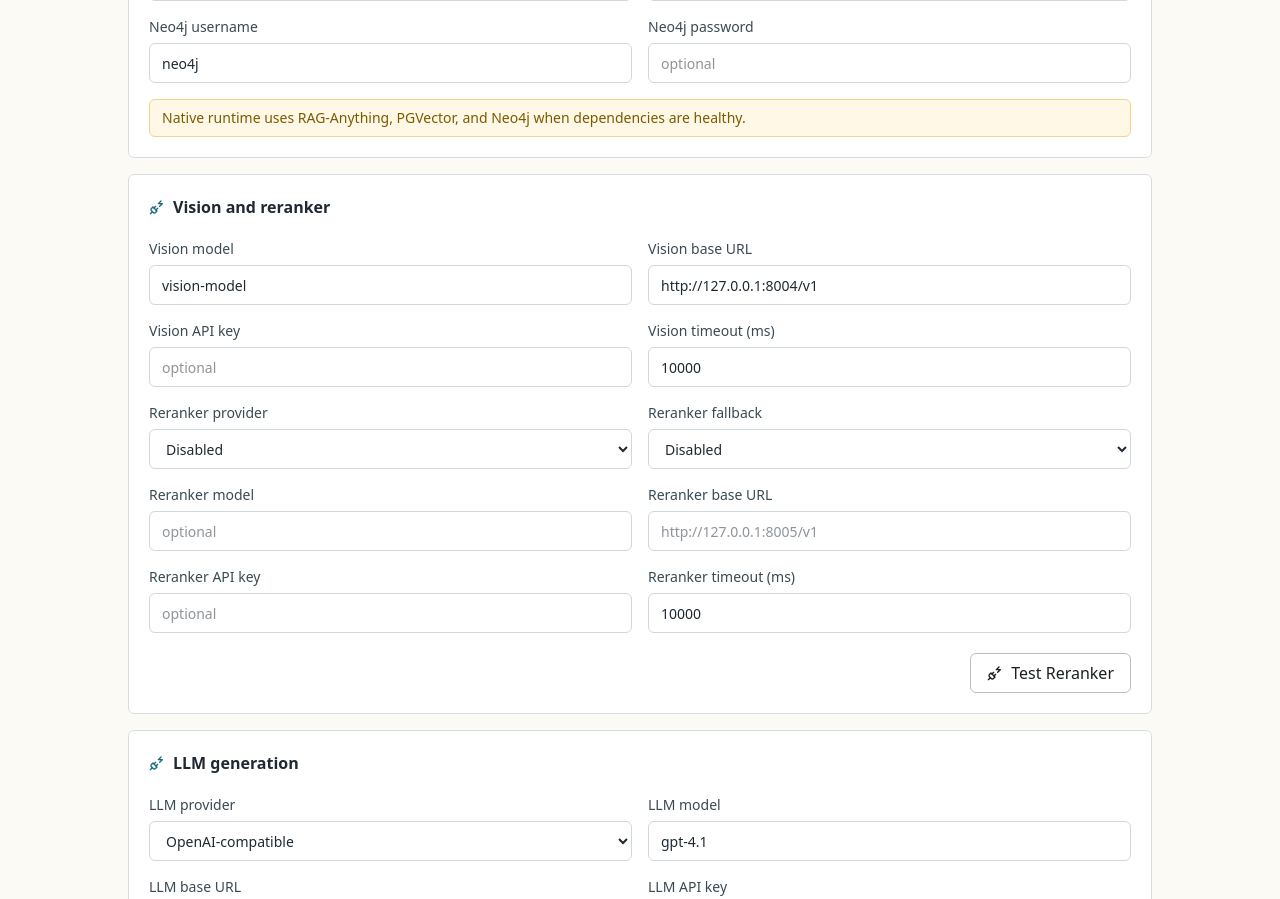
Test: SettingsPage provider sync › tests the configured reranker
This screenshot has width=1280, height=899.
(page scrolled)
Check: the heading "Vision and reranker" is shown, box [173,195,330,219]
Check: the field showing "gpt-4.1" is shown, box [648,821,1131,861]
Select "Generic HTTP" in the dropdown labelled "Reranker provider" at (390, 449), box [149,429,632,469]
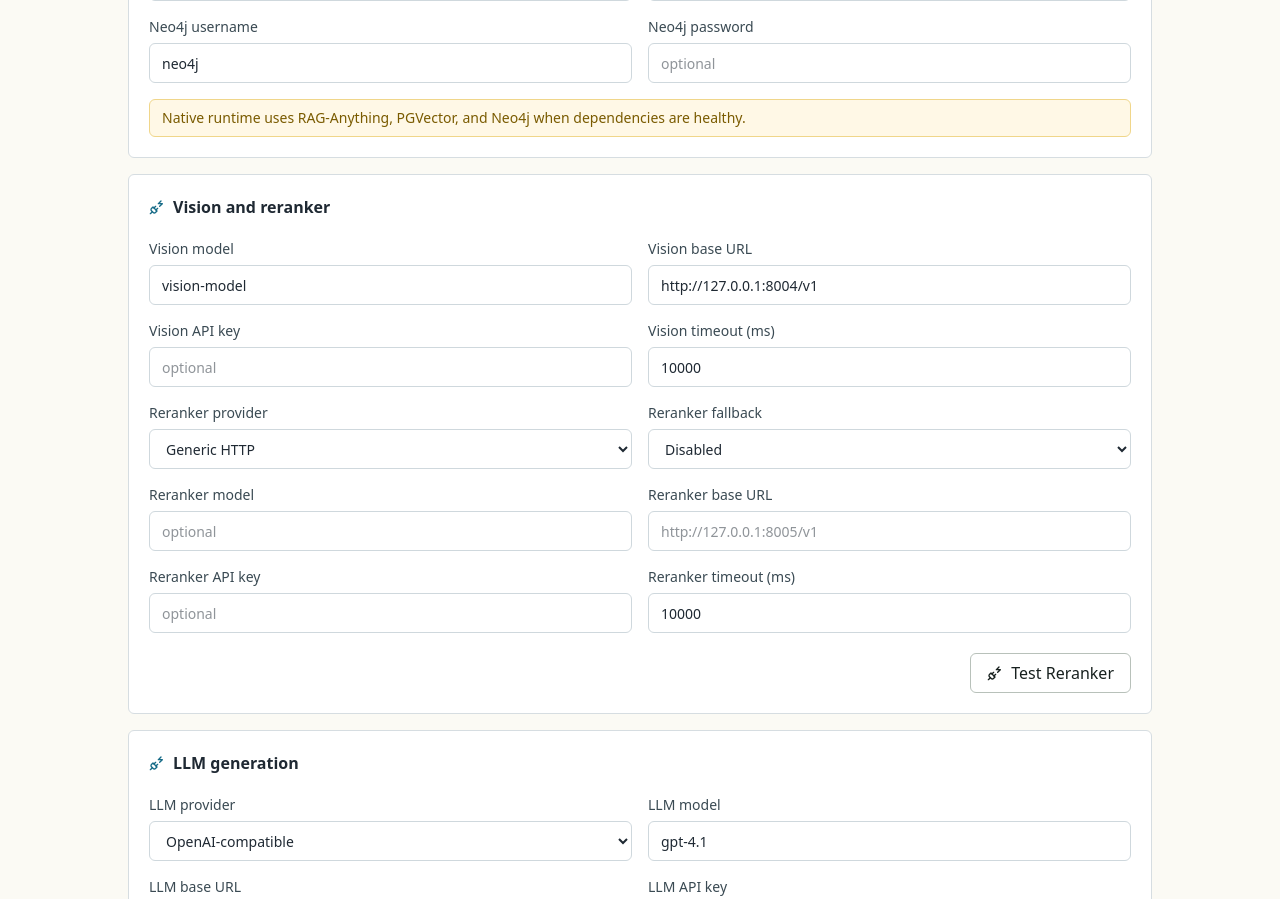
Type "Qwen/Qwen3-Reranker-8B" into the field labelled "Reranker model" at (390, 531), box [149,511,632,551]
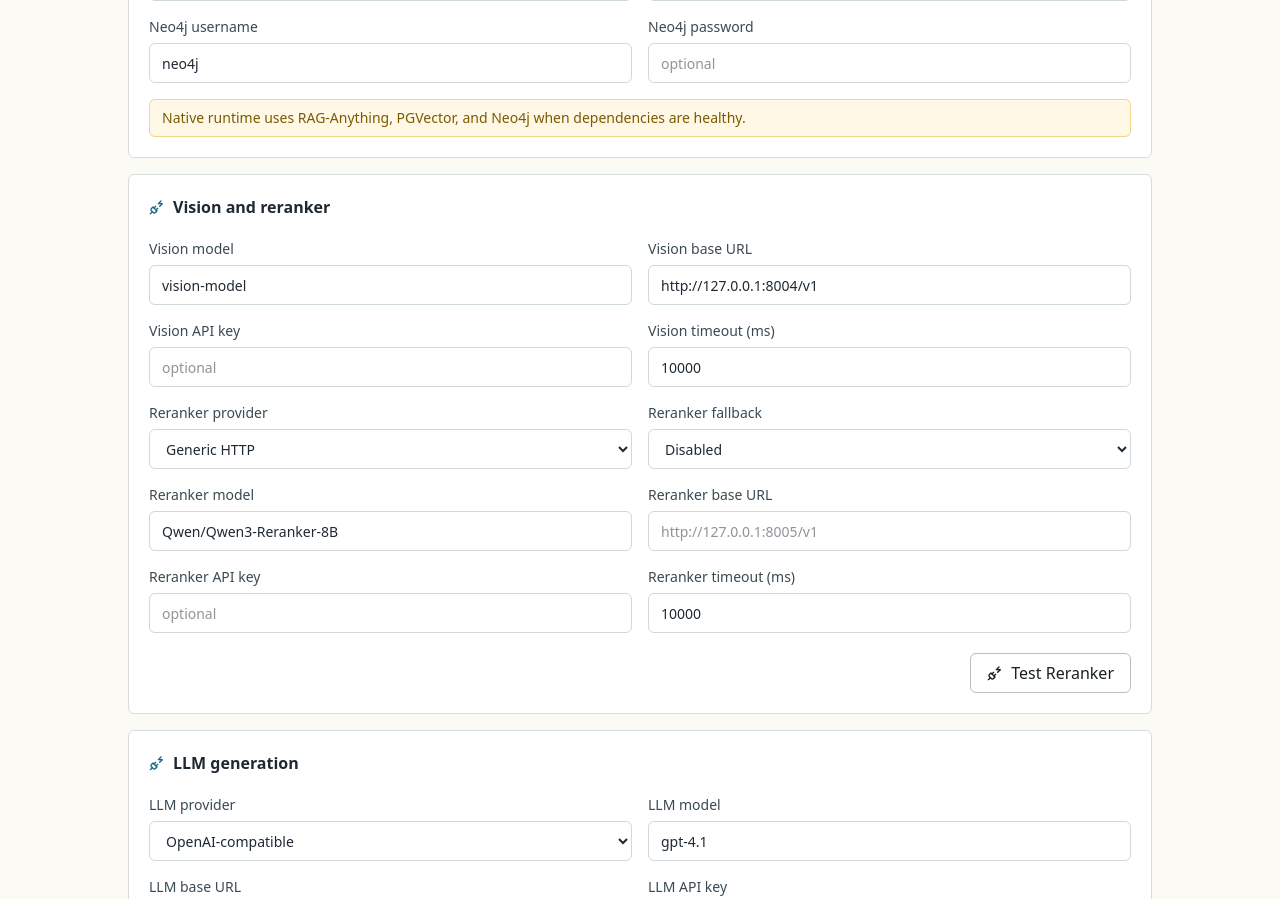
Type "http://10.10.9.193:8005/v1/rerank" into the field labelled "Reranker base URL" at (890, 531), box [648,511,1131,551]
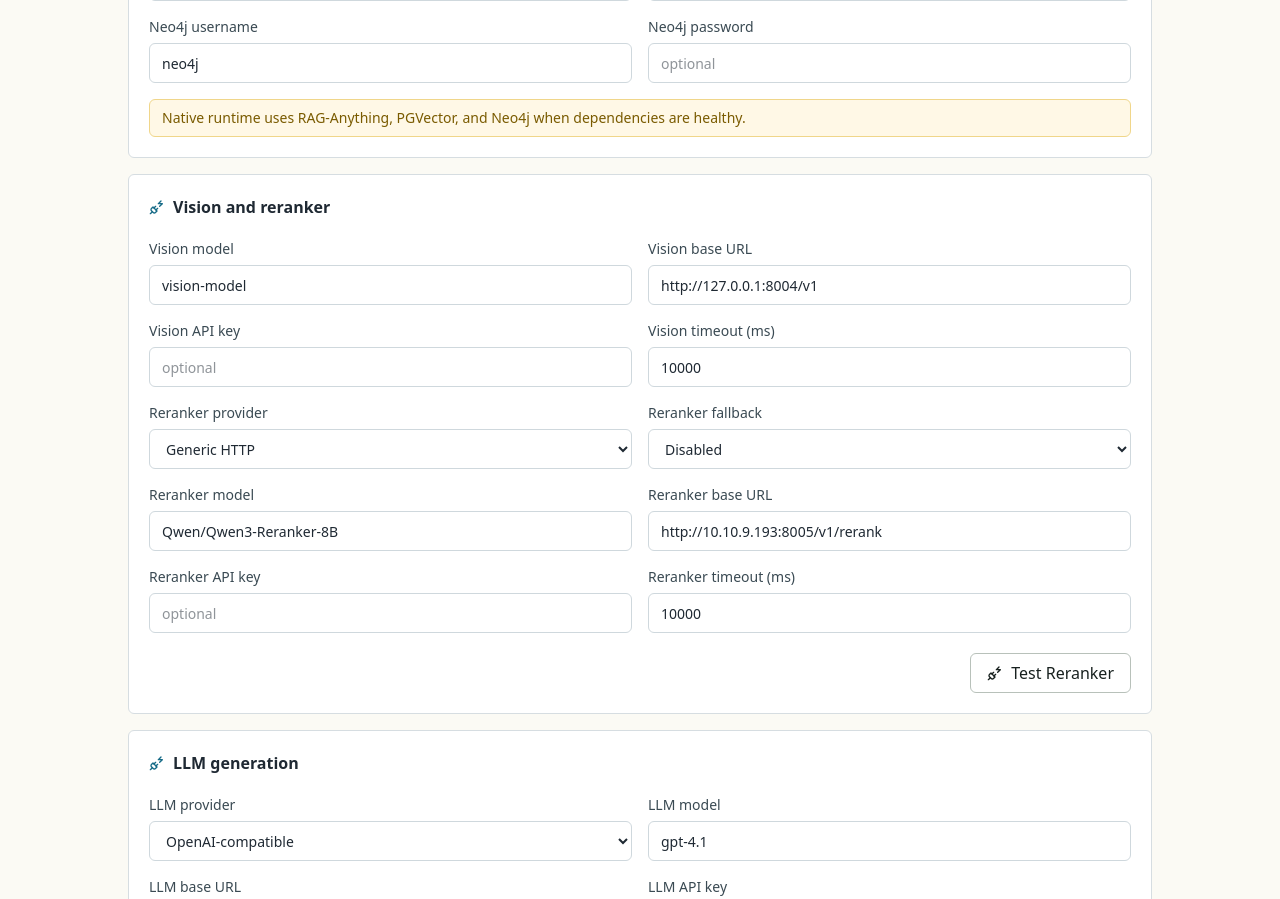
Click the button "Test Reranker" at (1051, 673), box [970,653,1131,693]
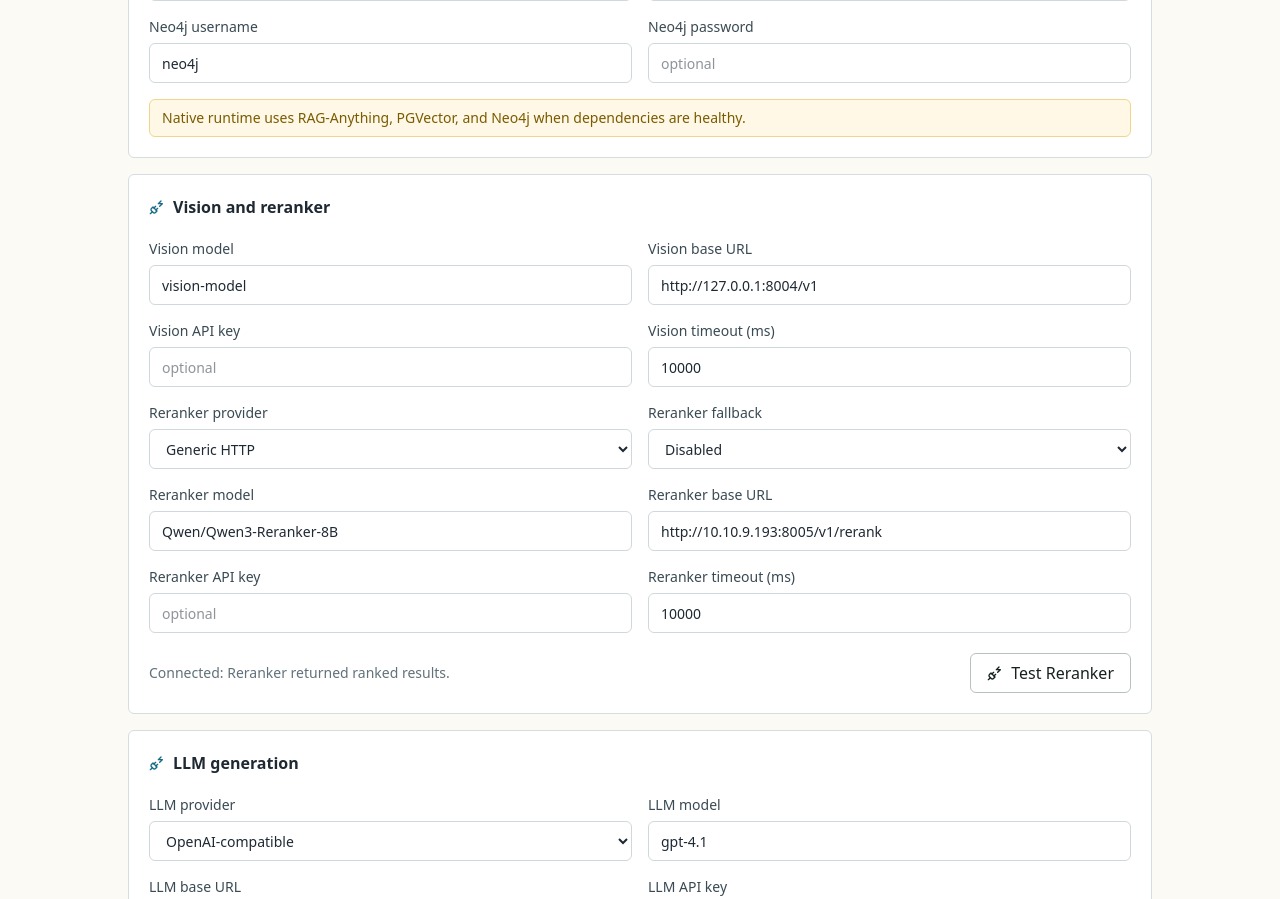
Check: the text "Connected: Reranker returned ranked results." is shown, box [149,663,450,683]
